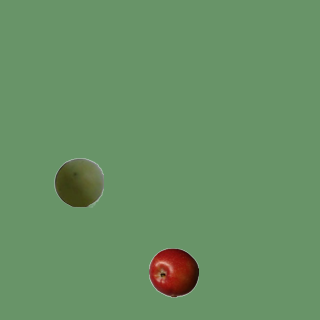Apple Braeburn: (148, 247, 198, 297)
Grape White 4: (53, 157, 103, 207)
